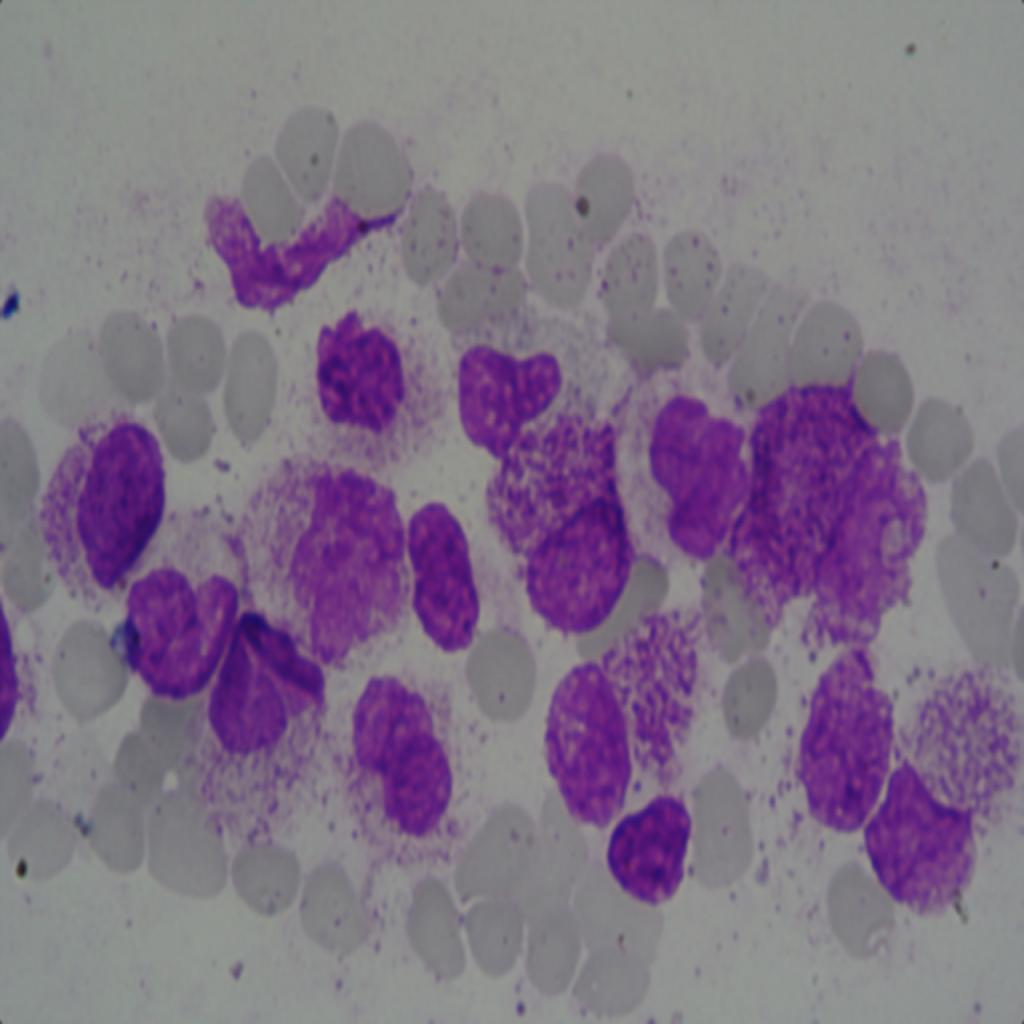Myeoblast: (750, 358, 874, 584), (281, 467, 411, 675), (346, 670, 458, 847), (516, 480, 635, 637), (638, 386, 744, 562), (57, 408, 165, 580), (450, 320, 566, 473), (802, 651, 896, 838), (865, 770, 984, 916), (542, 651, 642, 823), (117, 556, 233, 704), (303, 304, 417, 444), (408, 490, 490, 663), (206, 628, 310, 752), (610, 785, 700, 921)
